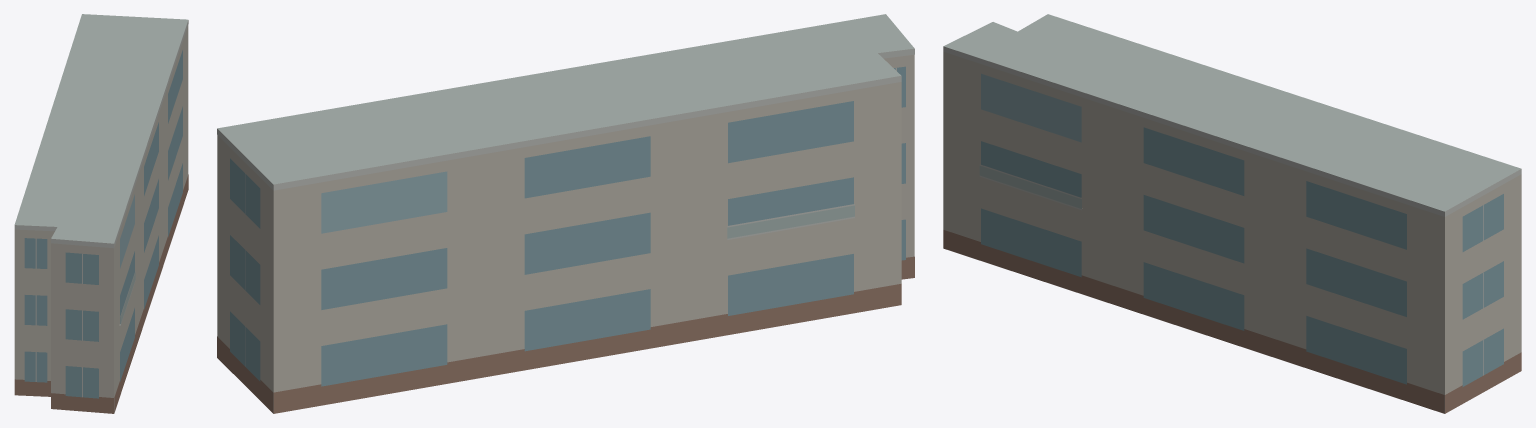
File: survey-upis-32524267.glb
3 renders of one model, left to right at view 1: azimuth 30°, elevation 25°; view 2: azimuth 150°, elevation 25°; view 3: azimuth 270°, elevation 25°, orthographic. The views are drawn at different scales.
Parts seen in each view (by area): view 1: survey-upis-32524267.tmp; view 2: survey-upis-32524267.tmp; view 3: survey-upis-32524267.tmp.
Boxes of the visible parts, <box> form: survey-upis-32524267.tmp: <box>14,14,188,413</box>; survey-upis-32524267.tmp: <box>217,14,914,413</box>; survey-upis-32524267.tmp: <box>943,14,1521,413</box>.
Size of the model in its own units: 19.19 by 9.15 by 23.72.
